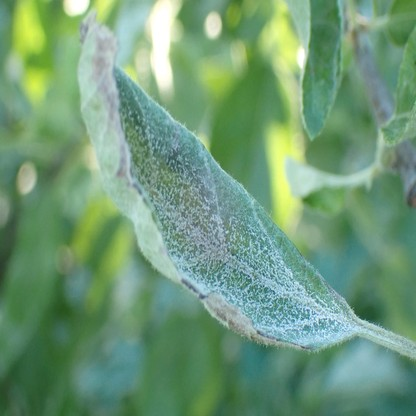powder: (80, 8, 357, 350), (310, 41, 343, 118), (382, 79, 416, 146)
